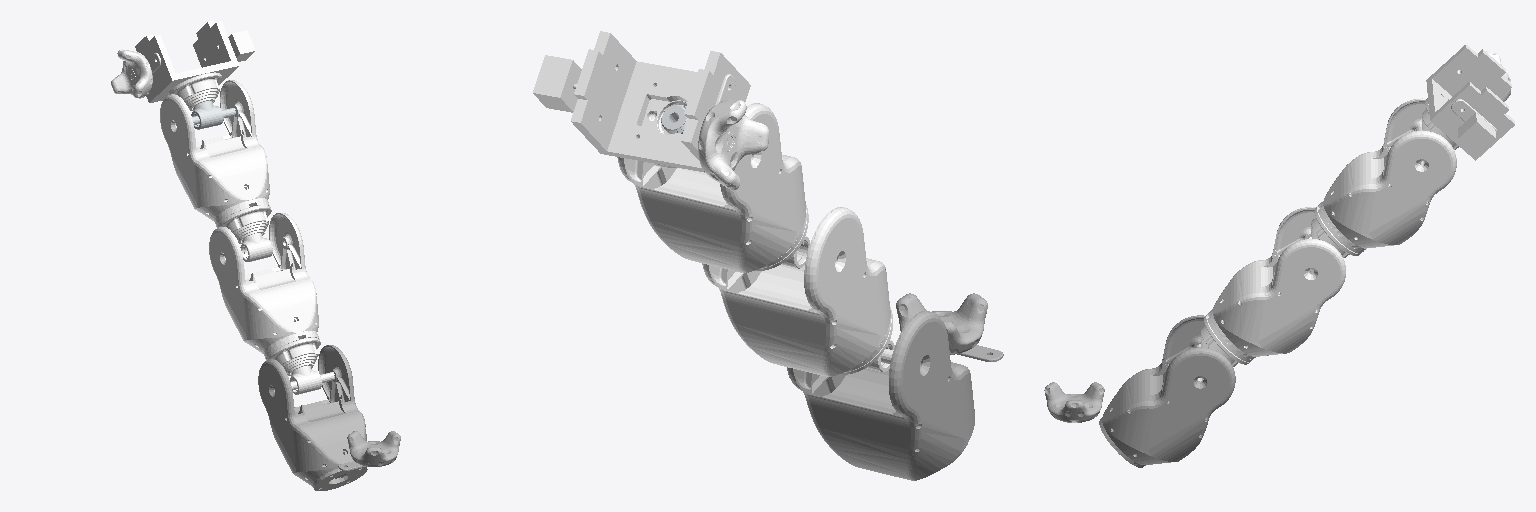
robot.urdf — koko_gazebo:
<robot
  name="koko_gazebo">
  <link name="world"/>
  <link name="base_link">
    <inertial>
      <origin
        xyz="-0.0757957750238399 0.140984711919552 -0.0275242044620397"
        rpy="0 0 0" />
      <mass
        value="5.35087699357395" />
      <inertia
        ixx="0.0187422392203513"
        ixy="0.000249830365012887"
        ixz="-9.95942614361503E-05"
        iyy="0.0149272112233475"
        iyz="-0.0026993960481081"
        izz="0.0181034939902423" />
    </inertial>
    <visual>
      <origin
        xyz="0 0 0"
        rpy="0 0 0" />
      <geometry>
        <mesh
          filename="package://koko_gazebo/meshes/base_link.STL" />
      </geometry>
      <material
        name="">
        <color
          rgba="0.752941176470588 0.752941176470588 0.752941176470588 1" />
      </material>
    </visual>
    <collision>
      <origin
        xyz="0 0 0"
        rpy="0 0 0" />
      <geometry>
        <mesh
          filename="package://koko_gazebo/meshes/base_link.STL" />
      </geometry>
    </collision>
  </link>
  <link
    name="lift_link">
    <inertial>
      <origin
        xyz="0.0137518298200178 9.31785077161046E-05 -4.72900080879524E-05"
        rpy="0 0 0" />
      <mass
        value="0.0945714084478179" />
      <inertia
        ixx="5.09580014268689E-05"
        ixy="-1.9745804718431E-08"
        ixz="1.63492553760009E-07"
        iyy="9.24996047366959E-05"
        iyz="-8.22989412877518E-10"
        izz="5.29296115073191E-05" />
    </inertial>
    <visual>
      <origin
        xyz="0 0 0"
        rpy="0 0 0" />
      <geometry>
        <mesh
          filename="package://koko_gazebo/meshes/lift_link.STL" />
      </geometry>
      <material
        name="">
        <color
          rgba="1 1 1 1" />
      </material>
    </visual>
    <collision>
      <origin
        xyz="0 0 0"
        rpy="0 0 0" />
      <geometry>
        <mesh
          filename="package://koko_gazebo/meshes/lift_link.STL" />
      </geometry>
    </collision>
  </link>
  <joint
    name="lift_joint"
    type="continuous">
    <origin
      xyz="-0.0762 0.22288 0.078275"
      rpy="1.5708 -0.7854 1.5708" />
    <parent
      link="base_link" />
    <child
      link="lift_link" />
    <axis
      xyz="0 0 1" />
  </joint>
  <link
    name="sroll_link">
    <inertial>
      <origin
        xyz="-2.69564467042516E-06 -0.0103941247742759 0.067080285801929"
        rpy="0 0 0" />
      <mass
        value="4.87714486845394" />
      <inertia
        ixx="0.0102609522942837"
        ixy="6.12489730276725E-08"
        ixz="-9.76949290734999E-07"
        iyy="0.0104359418011871"
        iyz="0.000111882173967031"
        izz="0.00815305827142092" />
    </inertial>
    <visual>
      <origin
        xyz="0 0 0"
        rpy="0 0 0" />
      <geometry>
        <mesh
          filename="package://koko_gazebo/meshes/sroll_link.STL" />
      </geometry>
      <material
        name="">
        <color
          rgba="1 1 1 1" />
      </material>
    </visual>
    <collision>
      <origin
        xyz="0 0 0"
        rpy="0 0 0" />
      <geometry>
        <mesh
          filename="package://koko_gazebo/meshes/sroll_link.STL" />
      </geometry>
    </collision>
  </link>
  <joint
    name="sroll_joint"
    type="continuous">
    <origin
      xyz="0.06495 0 0"
      rpy="0 1.5708 0" />
    <parent
      link="lift_link" />
    <child
      link="sroll_link" />
    <axis
      xyz="0 0 1" />
  </joint>
  <link
    name="elbow_link">
    <inertial>
      <origin
        xyz="0.0422346678984667 4.42730856626689E-05 4.14314615251321E-05"
        rpy="0 0 0" />
      <mass
        value="0.203035966469269" />
      <inertia
        ixx="0.000167473173510081"
        ixy="2.30817545507112E-07"
        ixz="-1.83612742409275E-07"
        iyy="0.000166157351385167"
        iyz="-2.2611457356263E-08"
        izz="0.000167396300440238" />
    </inertial>
    <visual>
      <origin
        xyz="0 0 0"
        rpy="0 0 0" />
      <geometry>
        <mesh
          filename="package://koko_gazebo/meshes/elbow_link.STL" />
      </geometry>
      <material
        name="">
        <color
          rgba="1 1 1 1" />
      </material>
    </visual>
    <collision>
      <origin
        xyz="0 0 0"
        rpy="0 0 0" />
      <geometry>
        <mesh
          filename="package://koko_gazebo/meshes/elbow_link.STL" />
      </geometry>
    </collision>
  </link>
  <joint
    name="elbow_joint"
    type="continuous">
    <origin
      xyz="0 0.01 0.19025"
      rpy="2.9745 -1.5708 -2.9745" />
    <parent
      link="sroll_link" />
    <child
      link="elbow_link" />
    <axis
      xyz="0 0 1" />
  </joint>
  <link
    name="eroll_link">
    <inertial>
      <origin
        xyz="-2.69578007960902E-06 -0.0103941248103617 0.0670802858040951"
        rpy="0 0 0" />
      <mass
        value="4.87714486426897" />
      <inertia
        ixx="0.0102609512250403"
        ixy="6.12485520913233E-08"
        ixz="-9.76947490299796E-07"
        iyy="0.0104359611445639"
        iyz="0.000111882172510607"
        izz="0.0081530765474748" />
    </inertial>
    <visual>
      <origin
        xyz="0 0 0"
        rpy="0 0 0" />
      <geometry>
        <mesh
          filename="package://koko_gazebo/meshes/eroll_link.STL" />
      </geometry>
      <material
        name="">
        <color
          rgba="1 1 1 1" />
      </material>
    </visual>
    <collision>
      <origin
        xyz="0 0 0"
        rpy="0 0 0" />
      <geometry>
        <mesh
          filename="package://koko_gazebo/meshes/eroll_link.STL" />
      </geometry>
    </collision>
  </link>
  <joint
    name="eroll_joint"
    type="continuous">
    <origin
      xyz="0.06495 0 0"
      rpy="0 1.5708 0" />
    <parent
      link="elbow_link" />
    <child
      link="eroll_link" />
    <axis
      xyz="0 0 1" />
  </joint>
  <link
    name="wrist_link">
    <inertial>
      <origin
        xyz="0.0137518298200184 9.31785077139813E-05 -4.72900080885075E-05"
        rpy="0 0 0" />
      <mass
        value="0.0945714084478188" />
      <inertia
        ixx="5.0958001426869E-05"
        ixy="-1.97458047184852E-08"
        ixz="1.6349255376012E-07"
        iyy="9.24996047366979E-05"
        iyz="-8.22989412959943E-10"
        izz="5.29296115073212E-05" />
    </inertial>
    <visual>
      <origin
        xyz="0 0 0"
        rpy="0 0 0" />
      <geometry>
        <mesh
          filename="package://koko_gazebo/meshes/wrist_link.STL" />
      </geometry>
      <material
        name="">
        <color
          rgba="0.898039215686275 0.917647058823529 0.929411764705882 1" />
      </material>
    </visual>
    <collision>
      <origin
        xyz="0 0 0"
        rpy="0 0 0" />
      <geometry>
        <mesh
          filename="package://koko_gazebo/meshes/wrist_link.STL" />
      </geometry>
    </collision>
  </link>
  <joint
    name="wrist_joint"
    type="continuous">
    <origin
      xyz="0 0.01 0.19025"
      rpy="-1.8925 -1.5708 1.9513" />
    <parent
      link="eroll_link" />
    <child
      link="wrist_link" />
    <axis
      xyz="0 0 1" />
  </joint>
  <link
    name="wroll_link">
    <inertial>
      <origin
        xyz="-0.0562350071035924 -0.00280283331198616 0.0375786926130955"
        rpy="0 0 0" />
      <mass
        value="0.95686918925379" />
      <inertia
        ixx="0.00121575344897543"
        ixy="0.000346811275988596"
        ixz="0.000669697569817252"
        iyy="0.00596774482621568"
        iyz="3.34290139549377E-05"
        izz="0.00564190463158831" />
    </inertial>
    <visual>
      <origin
        xyz="0 0 0"
        rpy="0 0 0" />
      <geometry>
        <mesh
          filename="package://koko_gazebo/meshes/wroll_link.STL" />
      </geometry>
      <material
        name="">
        <color
          rgba="1 1 1 1" />
      </material>
    </visual>
    <collision>
      <origin
        xyz="0 0 0"
        rpy="0 0 0" />
      <geometry>
        <mesh
          filename="package://koko_gazebo/meshes/wroll_link.STL" />
      </geometry>
    </collision>
  </link>
  <joint
    name="wroll_joint"
    type="continuous">
    <origin
      xyz="0.06495 0 0"
      rpy="0 1.5708 0" />
    <parent
      link="wrist_link" />
    <child
      link="wroll_link" />
    <axis
      xyz="0 0 1" />
  </joint>

  <joint name ="world_joint" type= "fixed">
    <origin xyz="0 0 2" rpy="0 0 0" />
    <parent link="world"/>
    <child link="base_link"/>
  </joint>
 <transmission name="tran1">
    <type>transmission_interface/SimpleTransmission</type>
    <joint name="lift_joint"><hardwareInterface>EffortJointInterface</hardwareInterface>
    </joint>
    <actuator name="motor1">
      <hardwareInterface>EffortJointInterface</hardwareInterface>
      <mechanicalReduction>1</mechanicalReduction>
    </actuator>
  </transmission>

  <transmission name="tran2">
    <type>transmission_interface/SimpleTransmission</type>
    <joint name="sroll_joint"><hardwareInterface>EffortJointInterface</hardwareInterface>
    </joint>
    <actuator name="motor2">
      <hardwareInterface>EffortJointInterface</hardwareInterface>
      <mechanicalReduction>1</mechanicalReduction>
    </actuator>
  </transmission>

  <transmission name="tran3">
    <type>transmission_interface/SimpleTransmission</type>
    <joint name="elbow_joint"><hardwareInterface>EffortJointInterface</hardwareInterface>
    </joint>
    <actuator name="motor3">
      <hardwareInterface>EffortJointInterface</hardwareInterface>
      <mechanicalReduction>1</mechanicalReduction>
    </actuator>
  </transmission>
  
  <transmission name="tran4">
    <type>transmission_interface/SimpleTransmission</type>
    <joint name="eroll_joint"><hardwareInterface>EffortJointInterface</hardwareInterface>
    </joint>
    <actuator name="motor4">
      <hardwareInterface>EffortJointInterface</hardwareInterface>
      <mechanicalReduction>1</mechanicalReduction>
    </actuator>
  </transmission>

  <transmission name="tran5">
    <type>transmission_interface/SimpleTransmission</type>
    <joint name="wrist_joint"><hardwareInterface>EffortJointInterface</hardwareInterface>
    </joint>
    <actuator name="motor5">
      <hardwareInterface>EffortJointInterface</hardwareInterface>
      <mechanicalReduction>1</mechanicalReduction>
    </actuator>
  </transmission>

  <transmission name="tran6">
    <type>transmission_interface/SimpleTransmission</type>
    <joint name="wroll_joint"><hardwareInterface>EffortJointInterface</hardwareInterface>
    </joint>
    <actuator name="motor6">
      <hardwareInterface>EffortJointInterface</hardwareInterface>
      <mechanicalReduction>1</mechanicalReduction>
    </actuator>
  </transmission>

  <gazebo>
    <plugin name="gazebo_ros_control" filename="libgazebo_ros_control.so">
      <robotNamespace>/DOF</robotNamespace>
    </plugin>
  </gazebo>
</robot>

--- What the picture shows (computed from the rendered views, not written in the file) ---
The picture shows the robot from 3 angles, left to right: view 1: azimuth 30°, elevation 25°; view 2: azimuth 150°, elevation 25°; view 3: azimuth 270°, elevation 25°; orthographic projection.
Model koko_gazebo with 8 links and 7 joints (6 continuous, 1 fixed), rooted at world, posed every joint at zero.
Visible links, largest first — view 1: base_link, sroll_link, eroll_link, wroll_link, elbow_link, lift_link, wrist_link; view 2: base_link, wroll_link, sroll_link, eroll_link, elbow_link, wrist_link; view 3: base_link, sroll_link, eroll_link, wroll_link.
Boxes of the visible links, x1,y1,x2,y2 form: base_link: (258,345,400,490); sroll_link: (209,213,320,375); eroll_link: (160,80,271,243); wroll_link: (111,20,255,110); elbow_link: (217,205,272,261); lift_link: (290,365,334,394); wrist_link: (191,100,235,129); base_link: (787,293,1003,480); wroll_link: (533,31,768,190); sroll_link: (702,207,892,376); eroll_link: (617,103,806,272); elbow_link: (755,205,809,270); wrist_link: (661,105,687,133); base_link: (1044,315,1235,467); sroll_link: (1201,207,1345,366); eroll_link: (1311,98,1456,257); wroll_link: (1422,44,1514,160).
Size in the robot's own frame: 0.2509 by 0.7384 by 0.6953 metres.
Meshes: 7 distinct files referenced, 7 mesh visuals loaded (7 binary STL).